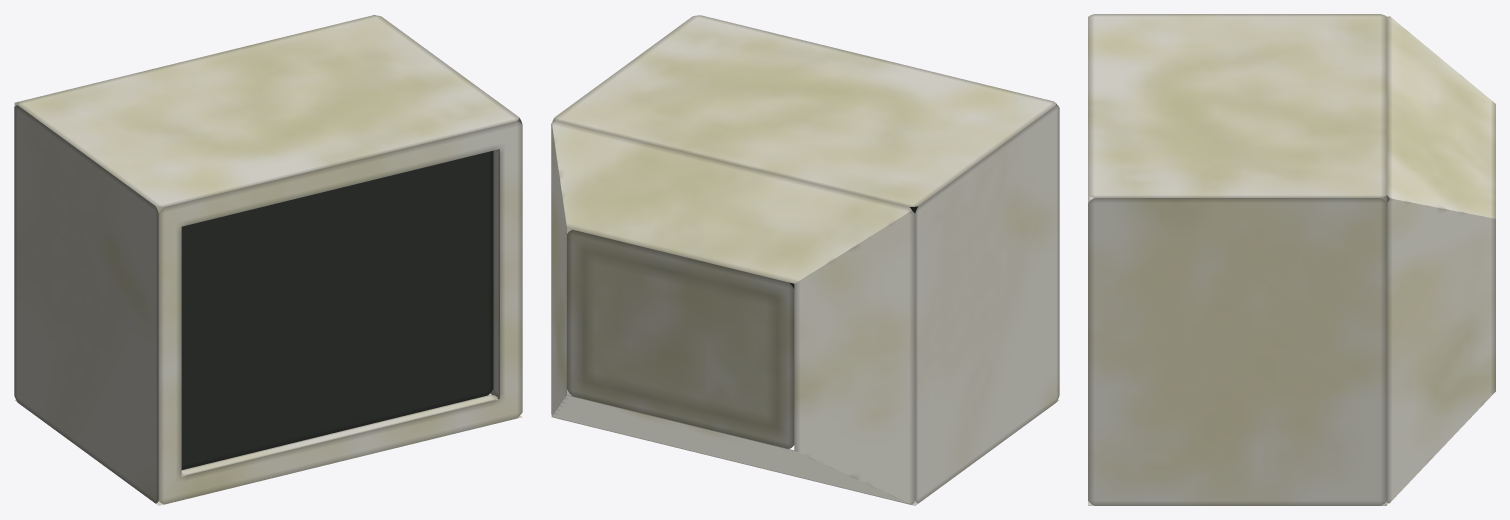
File: ComputerScreen.obj
The picture shows the model from 3 angles, left to right: view 1: azimuth 30°, elevation 25°; view 2: azimuth 150°, elevation 25°; view 3: azimuth 270°, elevation 25°; orthographic projection. The views are drawn at different scales.
Parts seen in each view (by area): view 1: cuboid; view 2: cuboid; view 3: cuboid.
Part boxes in pixels (<box>): cuboid: <box>14,15,522,505</box>; cuboid: <box>551,15,1059,505</box>; cuboid: <box>1088,14,1495,505</box>.
Size of the model in its own units: 1 by 0.8438 by 0.9375.
Materials: 1 (1 with a texture image).
